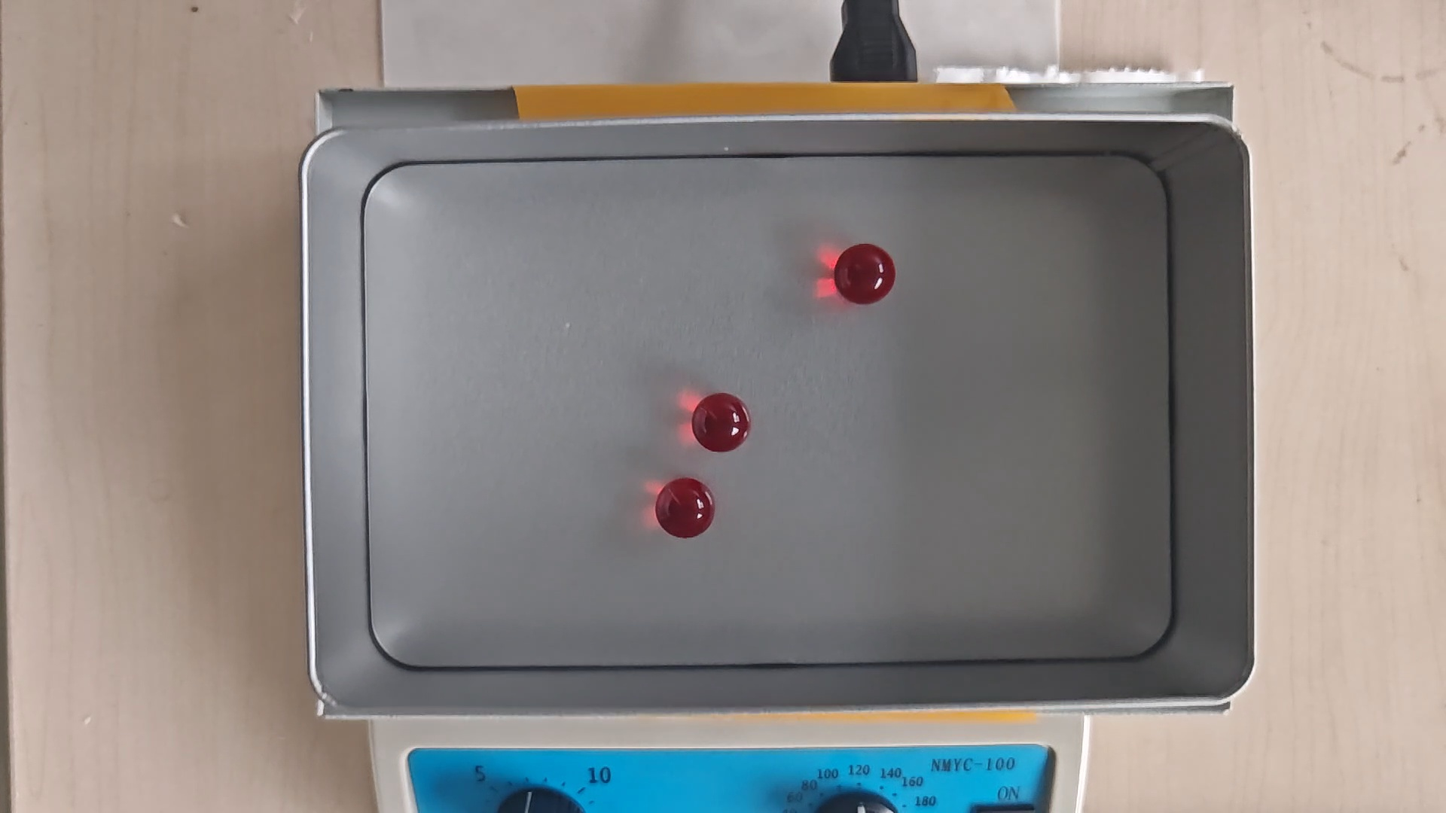ball: (691, 394, 752, 455), (835, 244, 896, 305), (657, 477, 715, 537)
container: (365, 155, 1171, 666)
